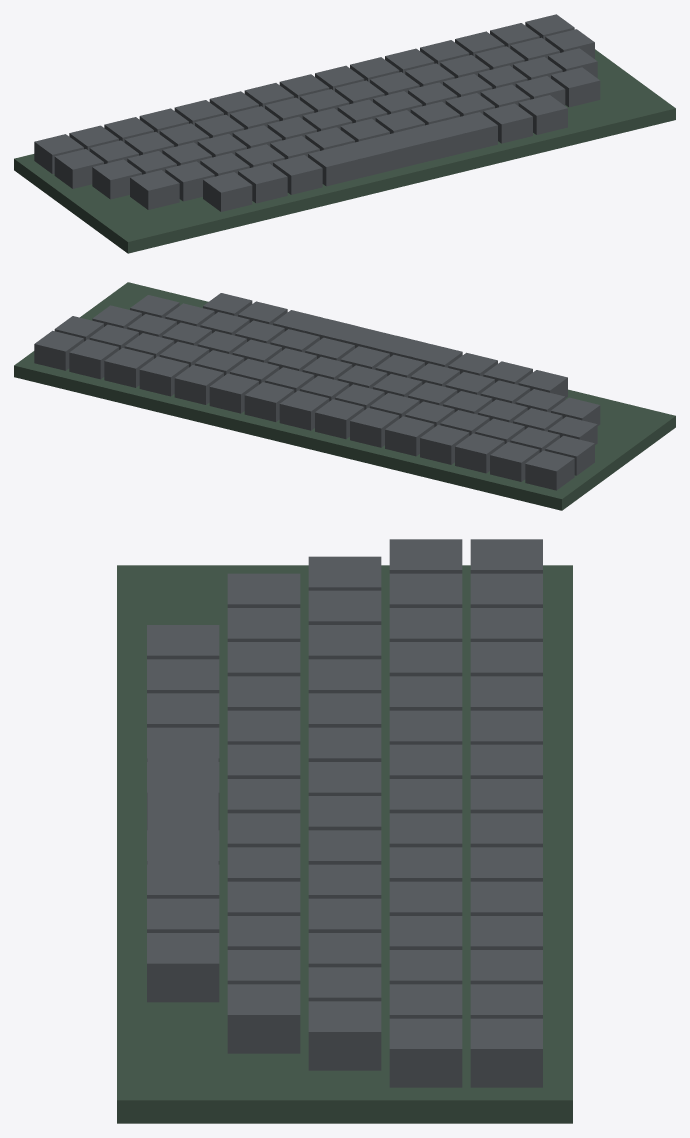
Rendered from keyboard-sb-macro.glb.
3 renders of one model, top to bottom at view 1: azimuth 30°, elevation 25°; view 2: azimuth 150°, elevation 25°; view 3: azimuth 270°, elevation 25°, orthographic. The views are drawn at different scales.
Parts seen in each view (by area): view 1: geometry_0, geometry_63, geometry_58, geometry_45, geometry_16, geometry_31, geometry_57, geometry_59, geometry_60, geometry_66, geometry_67, geometry_61 (+56 smaller); view 2: geometry_0, geometry_63, geometry_1, geometry_8, geometry_9, geometry_14, geometry_11, geometry_15, geometry_2, geometry_10, geometry_12, geometry_13 (+56 smaller); view 3: geometry_0, geometry_63, geometry_44, geometry_57, geometry_30, geometry_15, geometry_67, geometry_16, geometry_20, geometry_25, geometry_29, geometry_35 (+55 smaller).
Boxes of the visible parts, <box> form: geometry_0: <box>14,49,675,253</box>; geometry_63: <box>338,119,467,178</box>; geometry_58: <box>203,172,252,211</box>; geometry_45: <box>130,170,179,209</box>; geometry_16: <box>54,149,103,188</box>; geometry_31: <box>92,159,141,199</box>; geometry_57: <box>551,67,600,107</box>; geometry_59: <box>238,163,287,203</box>; geometry_60: <box>273,155,322,194</box>; geometry_66: <box>483,103,532,143</box>; geometry_67: <box>518,95,567,134</box>; geometry_61: <box>308,146,357,186</box>; geometry_0: <box>14,282,675,510</box>; geometry_63: <box>303,317,432,359</box>; geometry_1: <box>525,450,574,490</box>; geometry_8: <box>279,390,329,430</box>; geometry_9: <box>244,382,294,421</box>; geometry_14: <box>69,339,118,379</box>; geometry_11: <box>174,365,223,404</box>; geometry_15: <box>34,330,83,370</box>; geometry_2: <box>490,442,539,481</box>; geometry_10: <box>209,373,258,413</box>; geometry_12: <box>139,356,188,396</box>; geometry_13: <box>104,348,153,387</box>; geometry_0: <box>117,565,572,1123</box>; geometry_63: <box>147,758,218,865</box>; geometry_44: <box>308,1001,381,1070</box>; geometry_57: <box>227,984,300,1053</box>; geometry_30: <box>389,1018,462,1087</box>; geometry_15: <box>470,1018,542,1087</box>; geometry_67: <box>147,933,219,1002</box>; geometry_16: <box>389,539,462,573</box>; geometry_20: <box>389,676,462,710</box>; geometry_25: <box>389,847,462,881</box>; geometry_29: <box>389,984,462,1018</box>; geometry_35: <box>308,693,381,727</box>.
Size of the model in its own units: 0.297 by 0.016 by 0.107.
